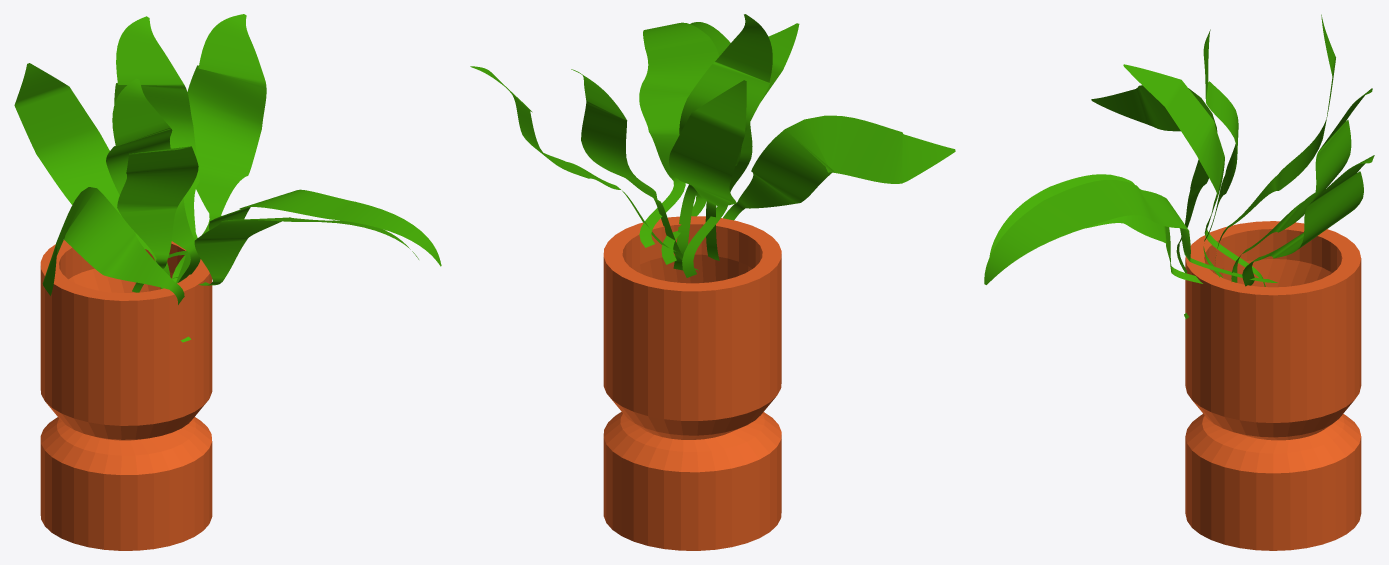
Rendered from PLANTA.glb.
3 renders of one model, left to right at view 1: azimuth 30°, elevation 25°; view 2: azimuth 150°, elevation 25°; view 3: azimuth 270°, elevation 25°, orthographic. The views are drawn at different scales.
Parts seen in each view (by area): view 1: BézierCurve.001, Cylinder, Cylinder.001; view 2: BézierCurve.001, Cylinder, Cylinder.001; view 3: Cylinder, BézierCurve.001, Cylinder.001.
Boxes of the visible parts, <box> form: BézierCurve.001: <box>14,14,441,342</box>; Cylinder: <box>40,240,212,440</box>; Cylinder.001: <box>40,417,212,550</box>; BézierCurve.001: <box>470,14,955,277</box>; Cylinder: <box>603,216,781,439</box>; Cylinder.001: <box>603,412,781,550</box>; Cylinder: <box>1185,221,1361,440</box>; BézierCurve.001: <box>984,14,1374,318</box>; Cylinder.001: <box>1185,414,1361,550</box>.
Bounding box in the file's own units: 1.56 × 2.04 × 1.52.
